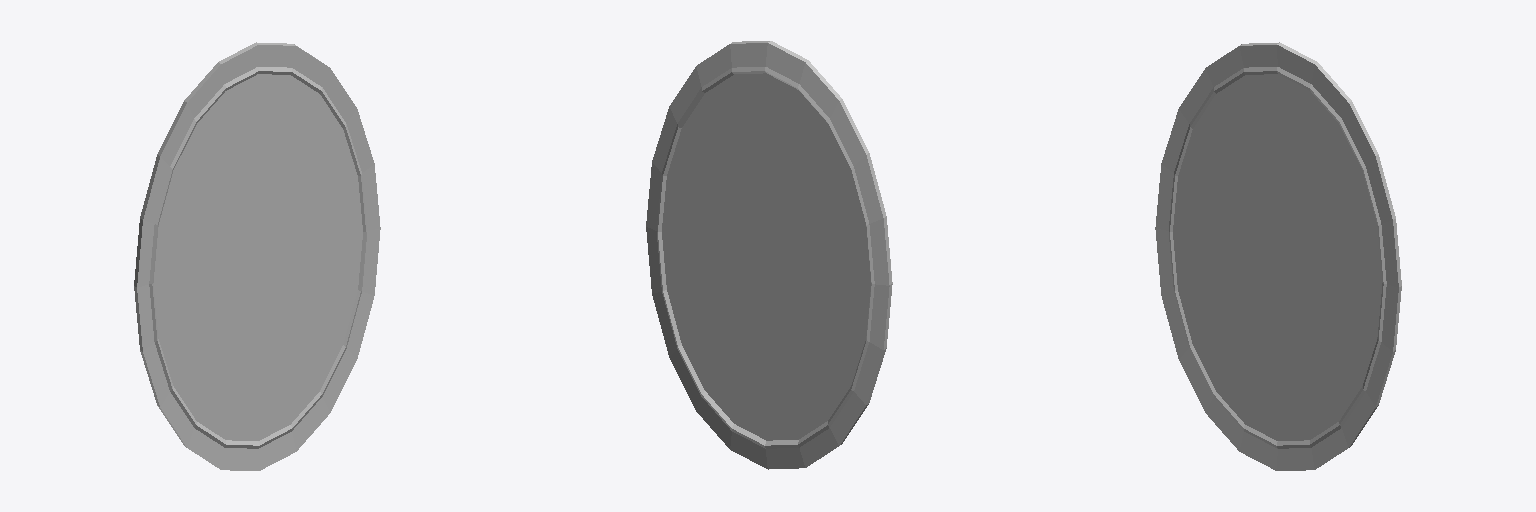
File: Espelho.obj
3 renders of one model, left to right at view 1: azimuth 30°, elevation 25°; view 2: azimuth 150°, elevation 25°; view 3: azimuth 330°, elevation 25°, orthographic.
Visible parts, largest first — view 1: Espelho3; view 2: Espelho3; view 3: Espelho3.
Boxes of the visible parts, x1,y1,x2,y2 form: Espelho3: [134, 42, 380, 470]; Espelho3: [646, 41, 892, 469]; Espelho3: [1155, 42, 1401, 470].
Size of the model in its own units: 1.72 by 2.87 by 0.0793.